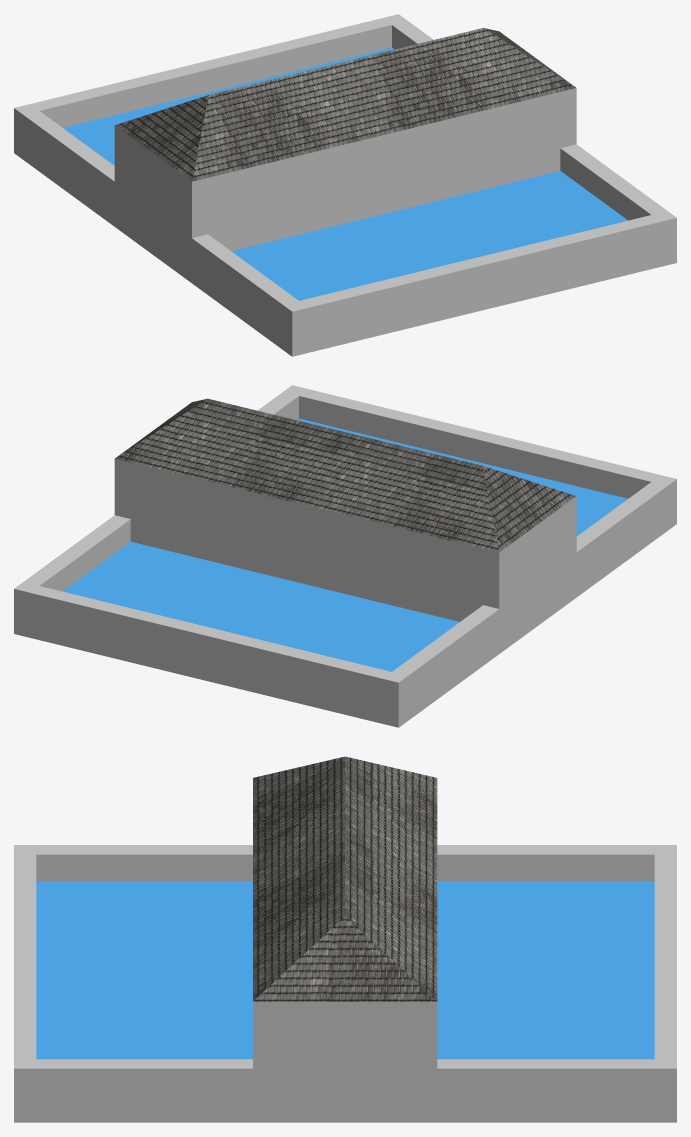
The model's file is A_Filter.glb.
The picture shows the model from 3 angles, top to bottom: view 1: azimuth 30°, elevation 25°; view 2: azimuth 150°, elevation 25°; view 3: azimuth 270°, elevation 25°; orthographic projection. The views are drawn at different scales.
Parts seen in each view (by area): view 1: Floor1; view 2: Floor1; view 3: Floor1.
Part boxes in pixels (x1=…): Floor1: x1=14, y1=14, x2=676, y2=356; Floor1: x1=14, y1=385, x2=676, y2=727; Floor1: x1=14, y1=756, x2=676, y2=1122.
Bounding box in the file's own units: 35.68 × 13 × 44.71.
Materials: 3 (3 with a texture image).
